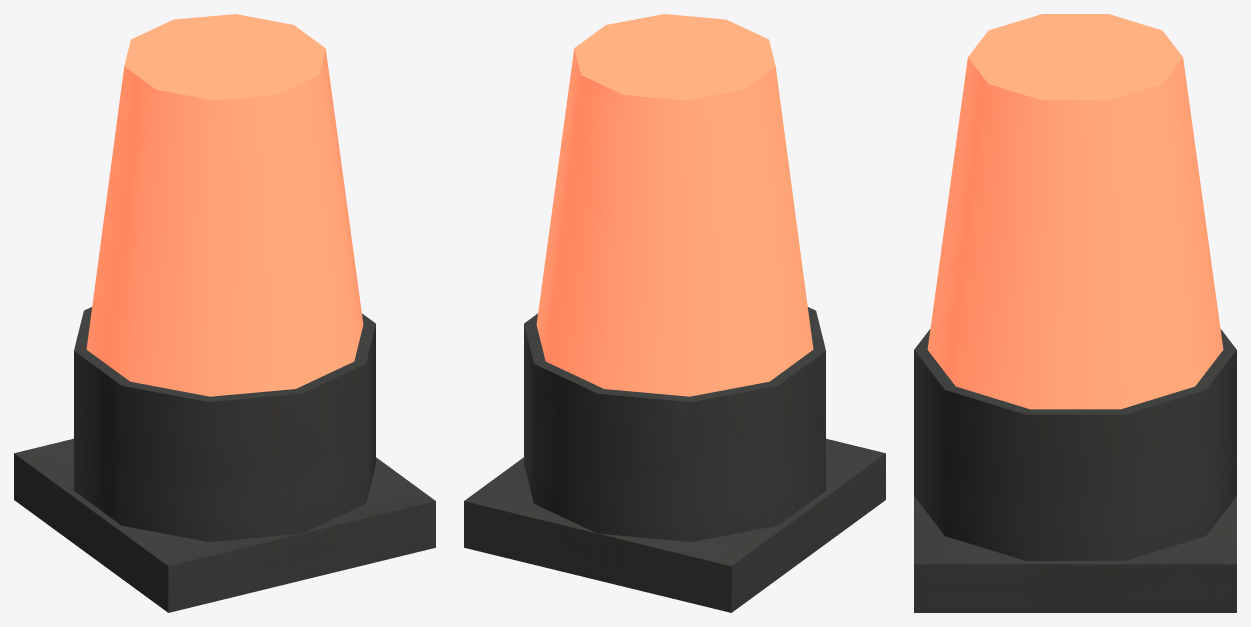
File: OB_Lampa_Ciemnia.fbx
3 views of the same model, side by side, from view 1: azimuth 30°, elevation 25°; view 2: azimuth 150°, elevation 25°; view 3: azimuth 270°, elevation 25° (orthographic). The views are drawn at different scales.
Visible parts, largest first — view 1: Klosz, Lampa; view 2: Klosz, Lampa; view 3: Klosz, Lampa.
Boxes of the visible parts, left/top/right/bottom form: Klosz: left=86, top=14, right=363, bottom=396; Lampa: left=14, top=307, right=435, bottom=612; Klosz: left=536, top=14, right=813, bottom=396; Lampa: left=464, top=307, right=885, bottom=612; Klosz: left=927, top=14, right=1223, bottom=409; Lampa: left=914, top=329, right=1236, bottom=612.
Size of the model in its own units: 0.12 by 0.2 by 0.12.
